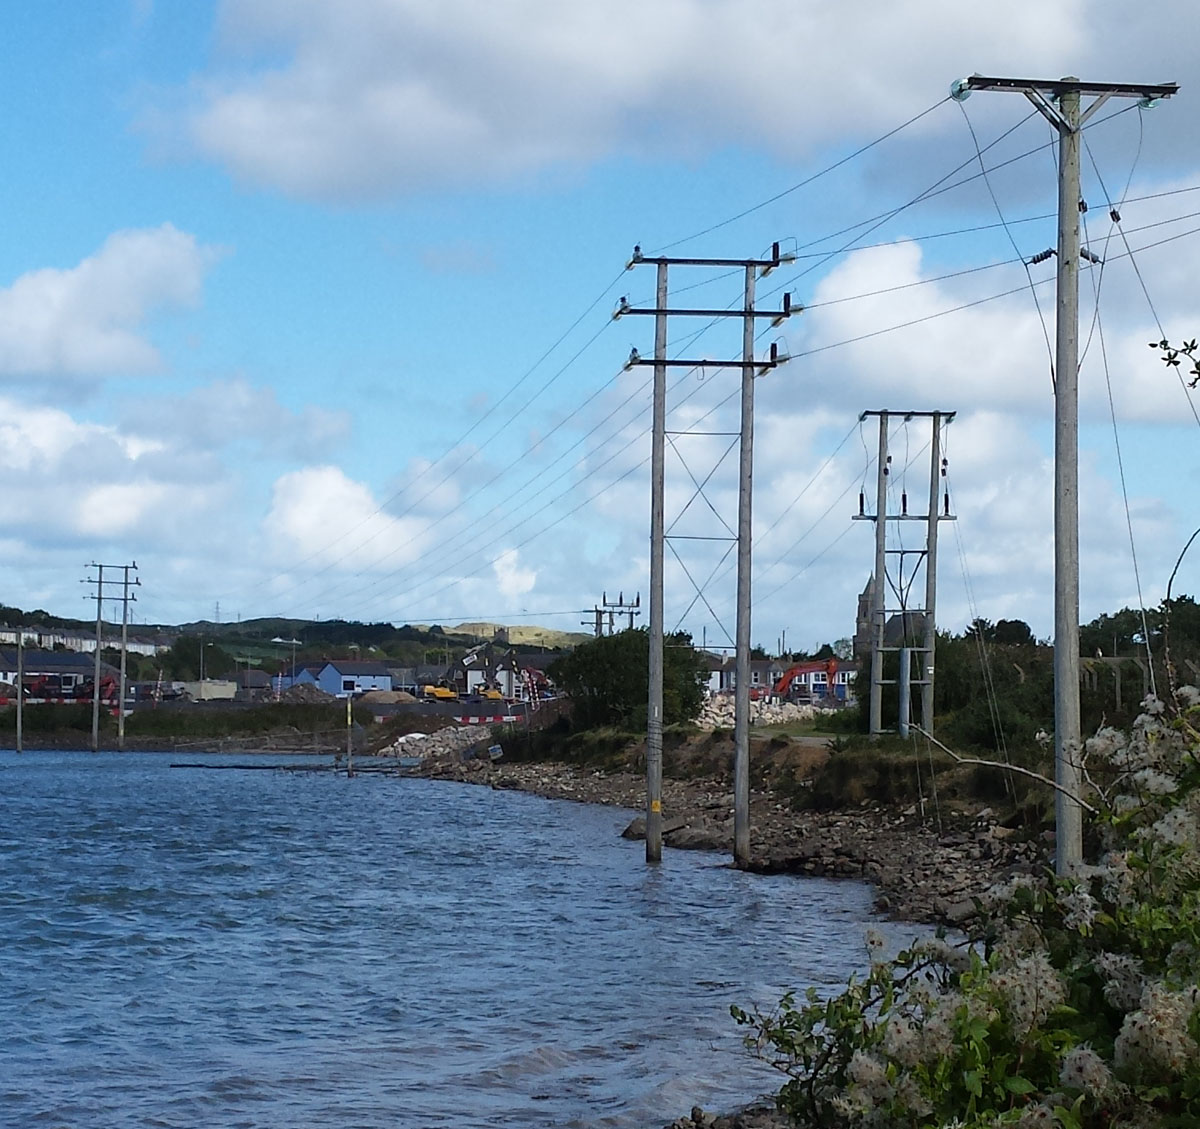utility_pole: (928, 44, 1183, 313), (590, 216, 816, 432)
